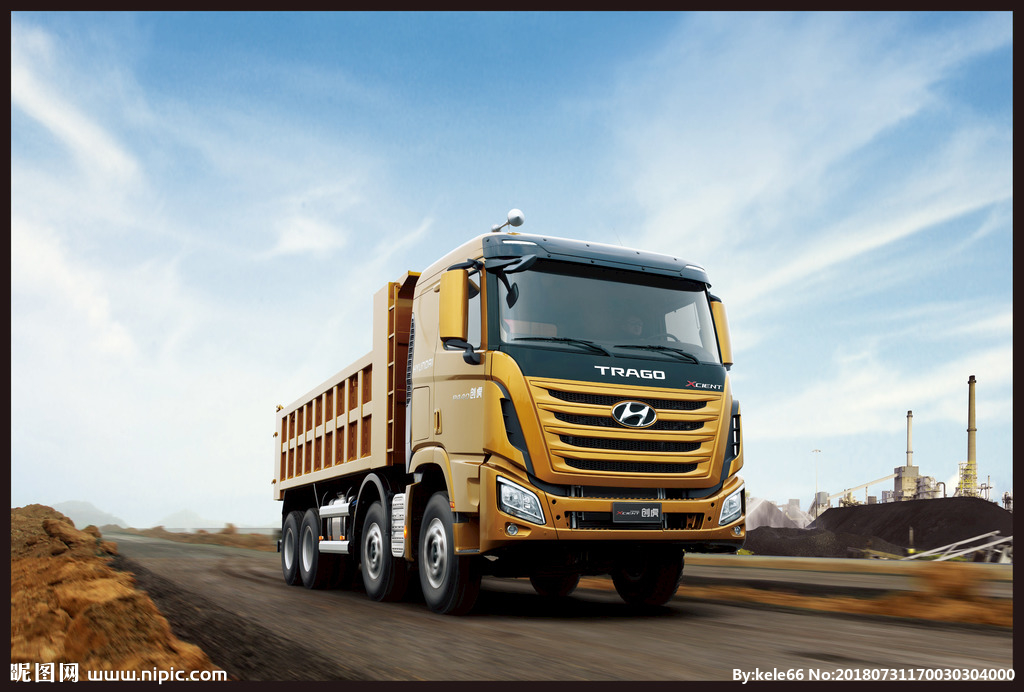truck: (262, 206, 758, 638)
